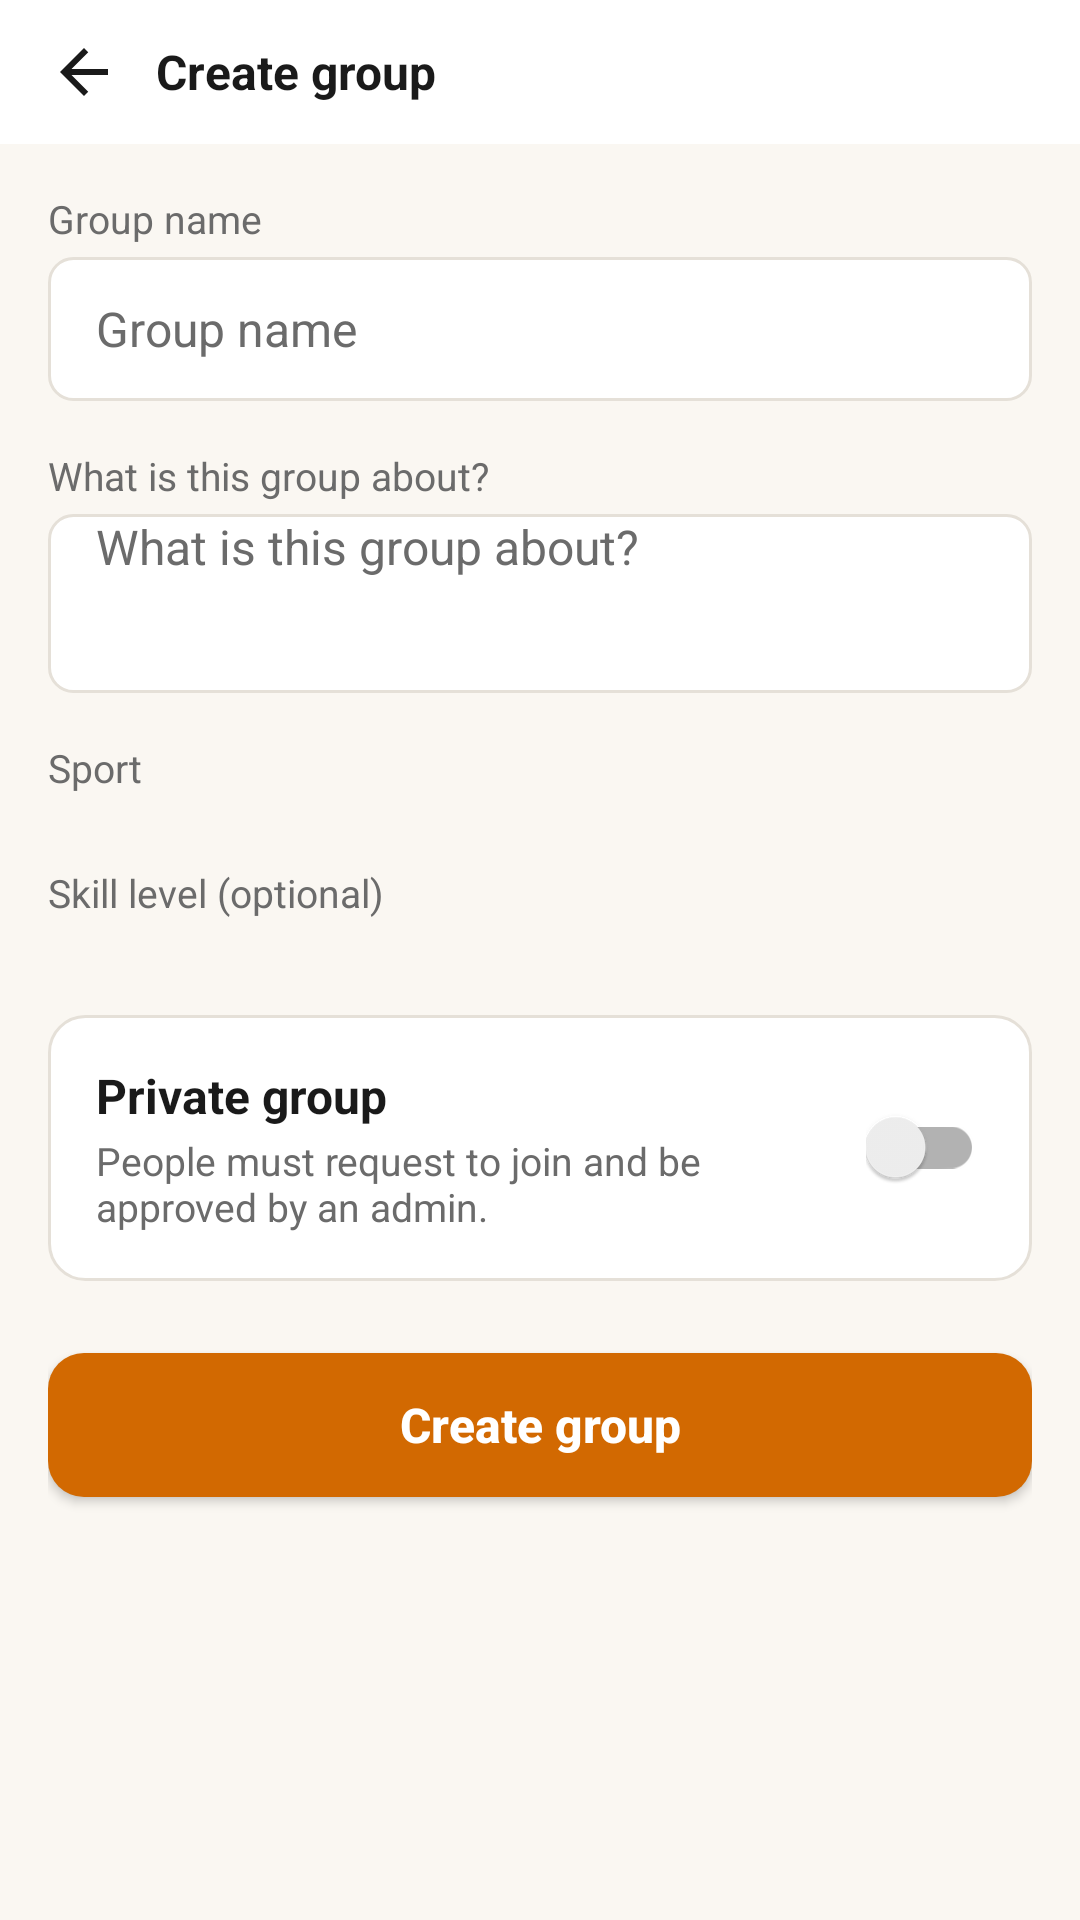

Named icons in this screenshot (1080×1920) and their bounding boxes, (x1,y1,x2,y2):
Back: (60,48,108,96)
